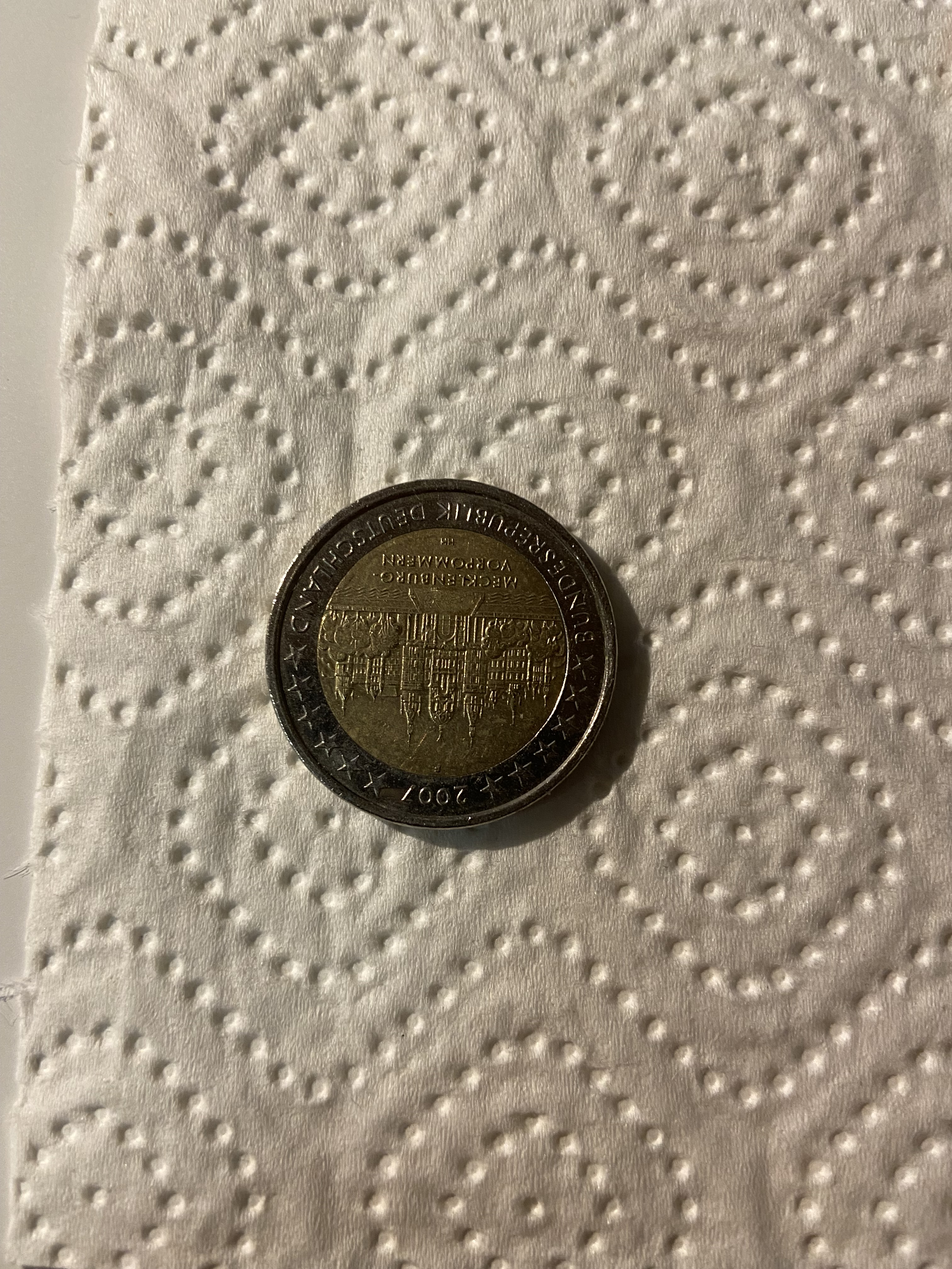1 euro: (269, 466, 620, 843)
